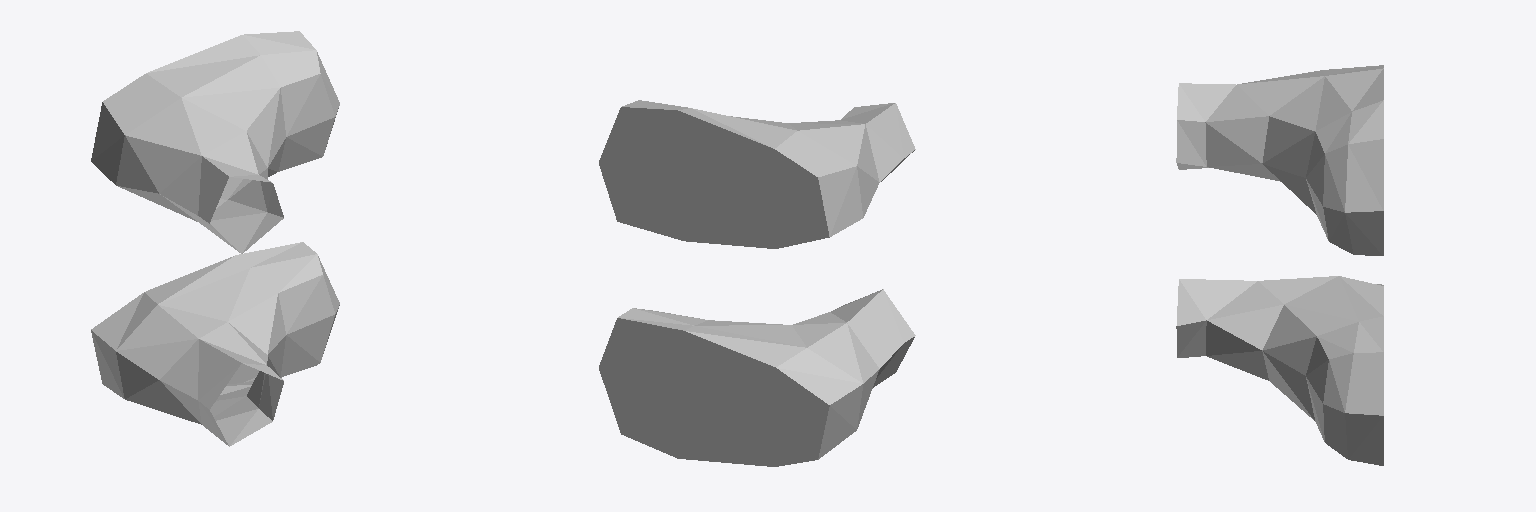
The model's file is 슬리퍼.obj.
3 views of the same model, side by side, from view 1: azimuth 30°, elevation 25°; view 2: azimuth 150°, elevation 25°; view 3: azimuth 270°, elevation 25° (orthographic).
Visible parts, largest first — view 1: rg_foot_001; view 2: rg_foot_001; view 3: rg_foot_001.
Part boxes in pixels (x1,y1,x2,y2): rg_foot_001: (91,31,339,446); rg_foot_001: (599,100,915,466); rg_foot_001: (1176,65,1383,465).
Bounding box in the file's own units: 31.49 × 44.51 × 23.97.